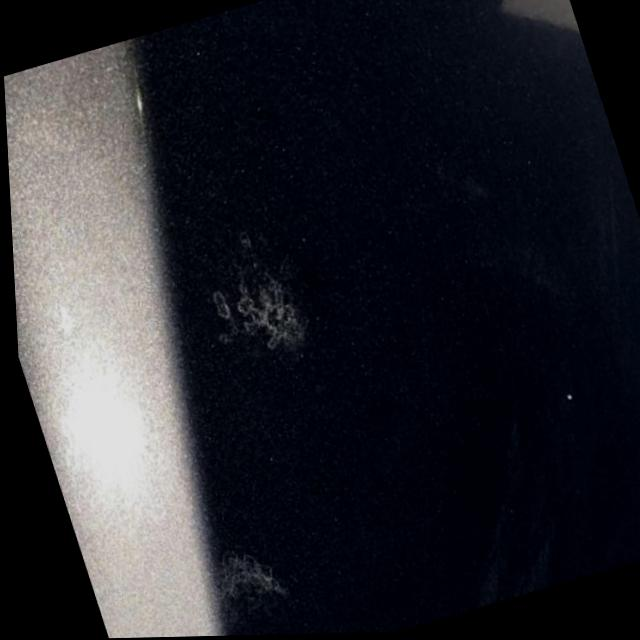Paint-Crack: (205, 264, 312, 364), (207, 550, 286, 596)
